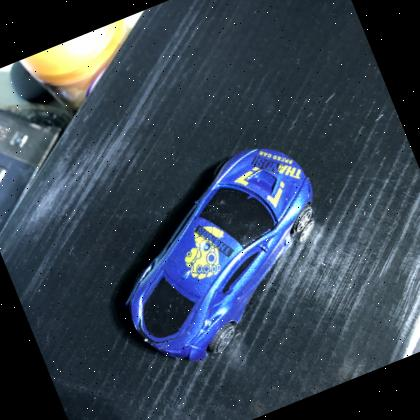Car: (76, 121, 368, 389)
